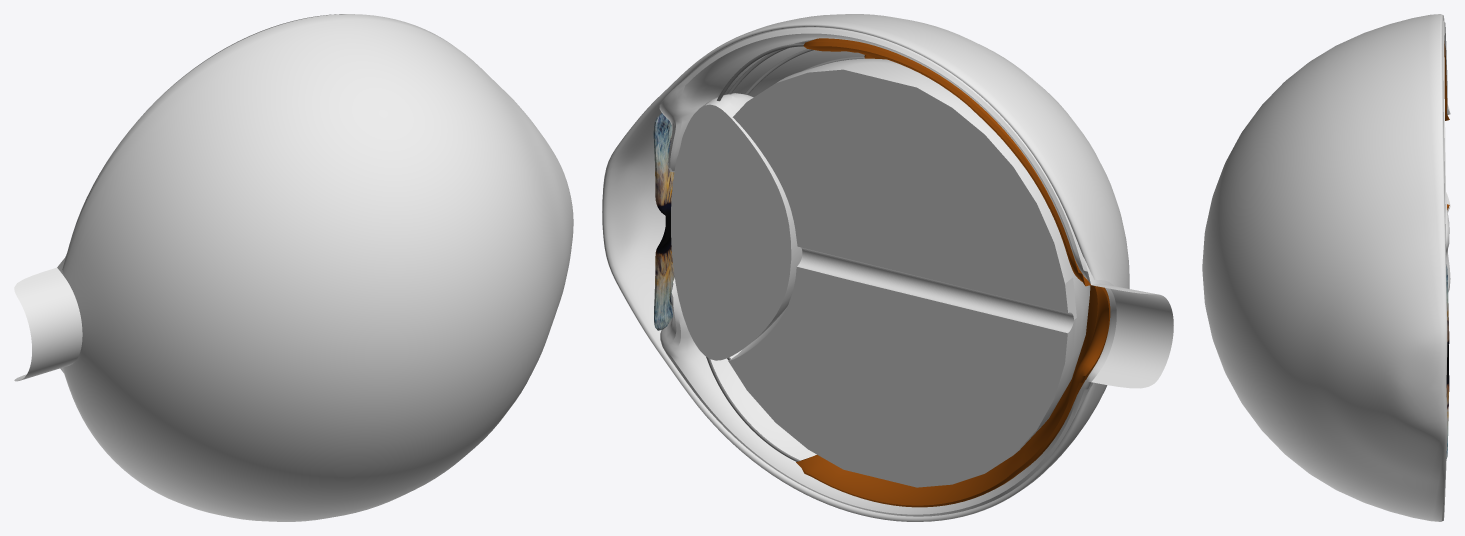
File: half eye V3 1.fbx
3 views of the same model, side by side, from view 1: azimuth 30°, elevation 25°; view 2: azimuth 150°, elevation 25°; view 3: azimuth 270°, elevation 25° (orthographic). The views are drawn at different scales.
Visible parts, largest first — view 1: Раговица, сосудистая оболочка; view 2: Sphere, Раговица, сосудистая оболочка, Хрусталик, сетчатка, радужка, Cylinder; view 3: Раговица, сосудистая оболочка, радужка.
Part boxes in pixels (left/top/right/bottom): Раговица: left=62, top=14, right=573, bottom=521; сосудистая оболочка: left=14, top=254, right=83, bottom=381; Sphere: left=728, top=58, right=1090, bottom=487; Раговица: left=602, top=14, right=1129, bottom=521; сосудистая оболочка: left=659, top=27, right=1173, bottom=516; Хрусталик: left=671, top=93, right=802, bottom=360; сетчатка: left=796, top=38, right=1110, bottom=507; радужка: left=653, top=113, right=674, bottom=330; Cylinder: left=706, top=39, right=864, bottom=461; Раговица: left=1202, top=14, right=1447, bottom=521; сосудистая оболочка: left=1443, top=20, right=1450, bottom=292; радужка: left=1446, top=265, right=1449, bottom=458.
Bounding box in the file's own units: 230 × 195 × 95.63.
